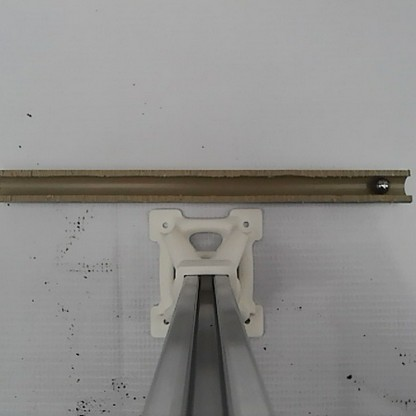ironball: (372, 176, 391, 195)
